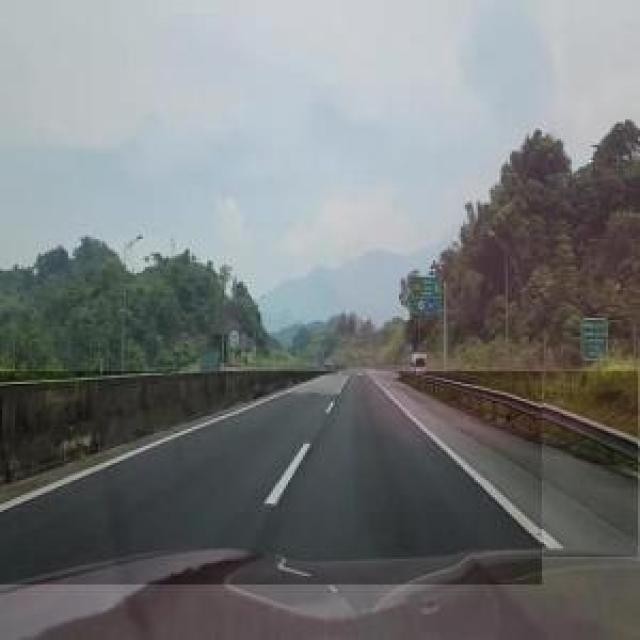clear-road: (0, 371, 542, 585), (372, 373, 640, 557)
